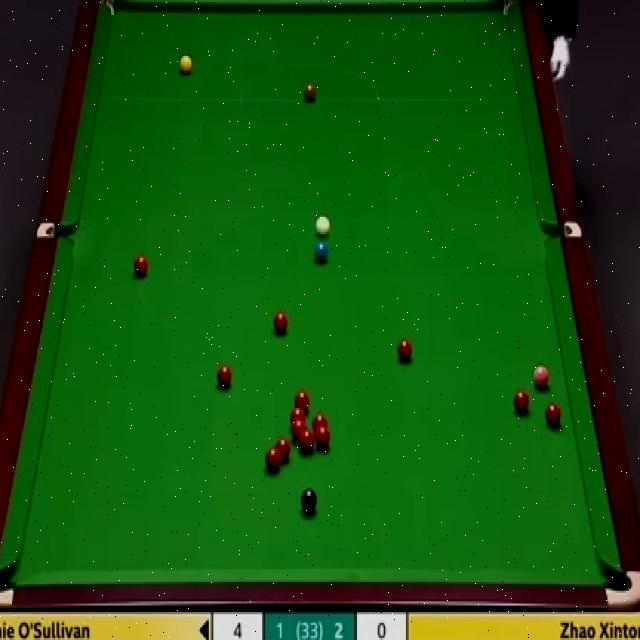black-ball: (299, 488, 318, 510)
blue-ball: (313, 240, 330, 264)
brown-ball: (303, 82, 316, 103)
pink-ball: (532, 364, 551, 390)
red-ball: (513, 386, 530, 414), (266, 445, 282, 472), (272, 310, 289, 335), (396, 337, 413, 361), (544, 402, 561, 426), (275, 437, 291, 462), (316, 424, 331, 450), (216, 363, 232, 386), (294, 389, 309, 412), (288, 407, 306, 426), (133, 256, 148, 278), (292, 419, 306, 442), (300, 429, 314, 452), (312, 412, 329, 428)
white-ball: (315, 214, 331, 236)
yellow-ball: (179, 55, 192, 77)
